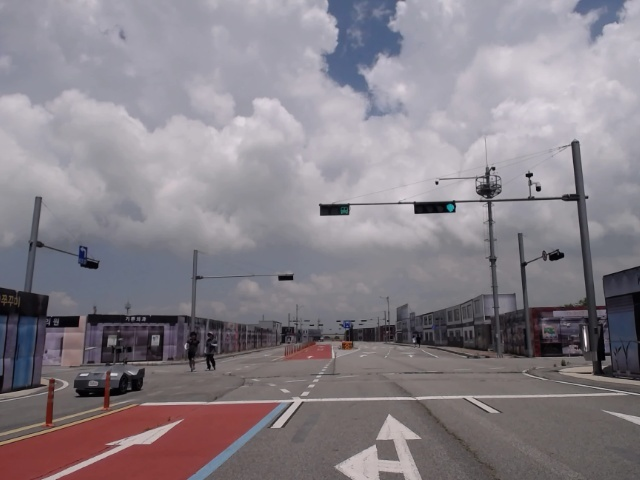straight_green_4: (415, 202, 456, 213)
